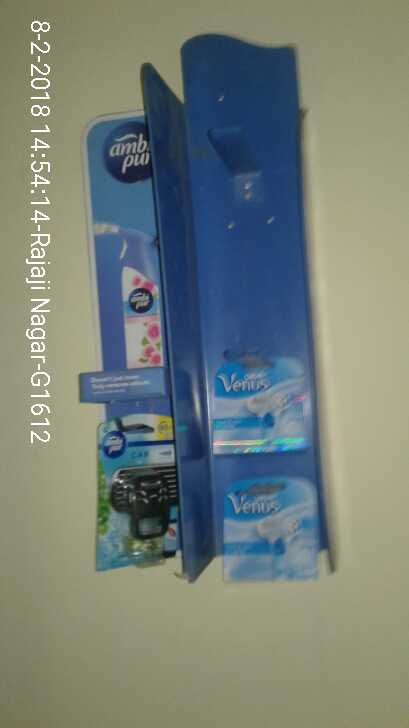beauty: (212, 480, 324, 589), (206, 359, 318, 448)
home: (92, 415, 183, 565)
